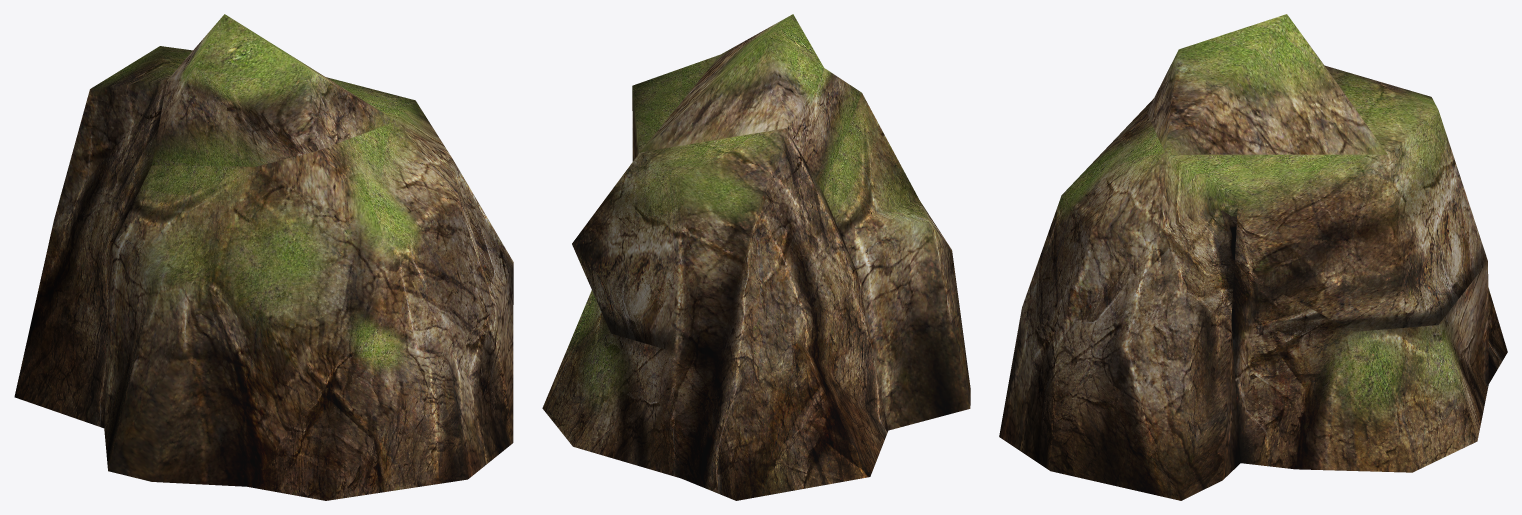
Rendered from rock_001_LOD.fbx.
The picture shows the model from 3 angles, left to right: view 1: azimuth 30°, elevation 25°; view 2: azimuth 150°, elevation 25°; view 3: azimuth 270°, elevation 25°; orthographic projection. The views are drawn at different scales.
Parts seen in each view (by area): view 1: rock_001_LOD3; view 2: rock_001_LOD3; view 3: rock_001_LOD3.
Boxes of the visible parts, bbox=[...] form: rock_001_LOD3: bbox=[14, 14, 513, 500]; rock_001_LOD3: bbox=[542, 14, 970, 500]; rock_001_LOD3: bbox=[999, 14, 1507, 500].
Bounding box in the file's own units: 945 × 875 × 1072.
Materials: 1 (1 with a texture image).
